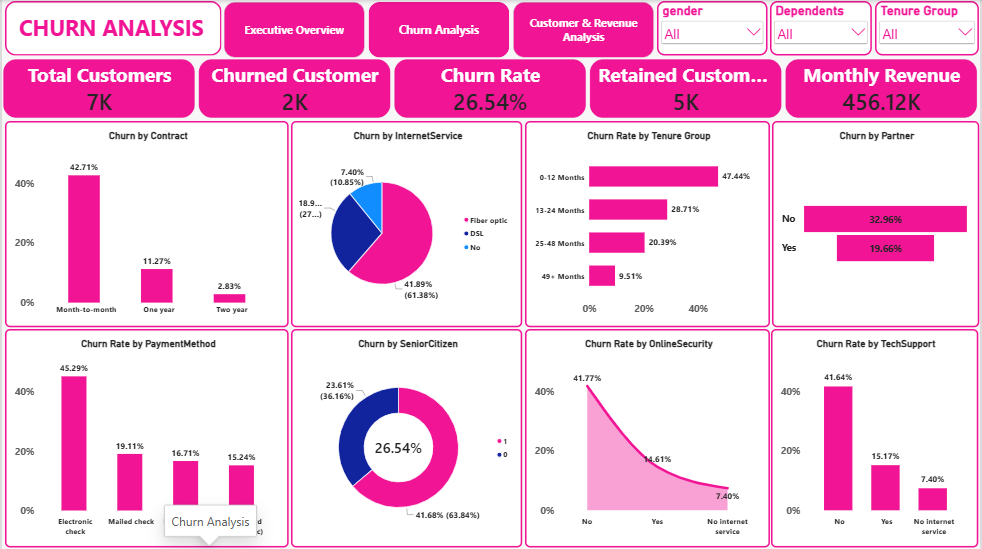

The dashboard page shown, as its layout file describes it:
{"tool":"powerbi","page":{"name":"Churn Analysis","canvas":[1920,1080],"ordinal":1},"visuals":[{"type":"shape","box":[6.2,2.1,425.3,107.4],"z":0},{"type":"textbox","box":[20.6,24.8,410.8,68.1],"z":1},{"type":"clusteredColumnChart","title":"Churn by Contract","fields":{"Y":["Telco-Customer-Churn (1).Churn Rate"],"Category":["Telco-Customer-Churn (1).Contract"]},"box":[6.2,237.4,557.4,404.6],"z":2},{"type":"pieChart","title":"Churn by InternetService","fields":{"Y":["Telco-Customer-Churn (1).Churn Rate"],"Category":["Telco-Customer-Churn (1).InternetService"]},"box":[567.7,237.4,454.2,404.6],"z":3},{"type":"donutChart","title":"Churn by SeniorCitizen","fields":{"Y":["Telco-Customer-Churn (1).Churn Rate"],"Category":["Telco-Customer-Churn (1).SeniorCitizen"]},"box":[567.7,646.2,454.2,429.4],"z":4},{"type":"funnel","title":"Churn by Partner","fields":{"Y":["Telco-Customer-Churn (1).Churn Rate"],"Category":["Telco-Customer-Churn (1).Partner"]},"box":[1511.2,237.4,406.7,404.6],"z":5},{"type":"clusteredColumnChart","fields":{"Category":["Telco-Customer-Churn (1).PaymentMethod"],"Y":["Telco-Customer-Churn (1).Churn Rate"]},"box":[6.2,646.2,557.4,429.4],"z":6},{"type":"clusteredBarChart","fields":{"Y":["Telco-Customer-Churn (1).Churn Rate"],"Category":["Telco-Customer-Churn (1).Tenure Group"]},"box":[1026.1,237.4,481,404.6],"z":7},{"type":"cardVisual","fields":{"Data":["Telco-Customer-Churn (1).Total Customers","Telco-Customer-Churn (1).Churned Customer","Telco-Customer-Churn (1).Churn Rate","Telco-Customer-Churn (1).Retained Customers","Telco-Customer-Churn (1).Monthly Revenue"]},"box":[2.2,116.8,1915.3,116.8],"z":8},{"type":"areaChart","fields":{"Y":["Telco-Customer-Churn (1).Churn Rate"],"Category":["Telco-Customer-Churn (1).OnlineSecurity"]},"box":[1026,646,481,429],"z":9},{"type":"lineStackedColumnComboChart","fields":{"Category":["Telco-Customer-Churn (1).TechSupport"],"Y":["Telco-Customer-Churn (1).Churn Rate"]},"box":[1511,646,407,429],"z":10},{"type":"slicer","fields":{"Values":["Telco-Customer-Churn (1).gender"]},"box":[1286.2,2.1,216.8,107.4],"z":11},{"type":"slicer","fields":{"Values":["Telco-Customer-Churn (1).Dependents"]},"box":[1507.1,2.1,200.3,107.4],"z":12},{"type":"slicer","fields":{"Values":["Telco-Customer-Churn (1).Tenure Group"]},"box":[1713.5,2.1,204.4,107.4],"z":13},{"type":"pageNavigator","box":[435.6,4.1,846.5,109.4],"z":14}]}

Visuals, with their boxes in screenshot pixels (x1, y1, x2, y2), scaled from the page's 1920x1080 canvas onto the 982x549 screenshot:
shape: {"x1": 3, "y1": 1, "x2": 221, "y2": 56}
textbox: {"x1": 11, "y1": 13, "x2": 221, "y2": 47}
"Churn by Contract" clusteredColumnChart: {"x1": 3, "y1": 121, "x2": 288, "y2": 326}
"Churn by InternetService" pieChart: {"x1": 290, "y1": 121, "x2": 523, "y2": 326}
"Churn by SeniorCitizen" donutChart: {"x1": 290, "y1": 328, "x2": 523, "y2": 547}
"Churn by Partner" funnel: {"x1": 773, "y1": 121, "x2": 981, "y2": 326}
clusteredColumnChart - Telco-Customer-Churn (1).PaymentMethod x Telco-Customer-Churn (1).Churn Rate: {"x1": 3, "y1": 328, "x2": 288, "y2": 547}
clusteredBarChart - Telco-Customer-Churn (1).Churn Rate x Telco-Customer-Churn (1).Tenure Group: {"x1": 525, "y1": 121, "x2": 771, "y2": 326}
cardVisual - Telco-Customer-Churn (1).Total Customers x Telco-Customer-Churn (1).Churned Customer: {"x1": 1, "y1": 59, "x2": 981, "y2": 119}
areaChart - Telco-Customer-Churn (1).Churn Rate x Telco-Customer-Churn (1).OnlineSecurity: {"x1": 525, "y1": 328, "x2": 771, "y2": 546}
lineStackedColumnComboChart - Telco-Customer-Churn (1).TechSupport x Telco-Customer-Churn (1).Churn Rate: {"x1": 773, "y1": 328, "x2": 981, "y2": 546}
slicer - Telco-Customer-Churn (1).gender: {"x1": 658, "y1": 1, "x2": 769, "y2": 56}
slicer - Telco-Customer-Churn (1).Dependents: {"x1": 771, "y1": 1, "x2": 873, "y2": 56}
slicer - Telco-Customer-Churn (1).Tenure Group: {"x1": 876, "y1": 1, "x2": 981, "y2": 56}
pageNavigator: {"x1": 223, "y1": 2, "x2": 656, "y2": 58}
